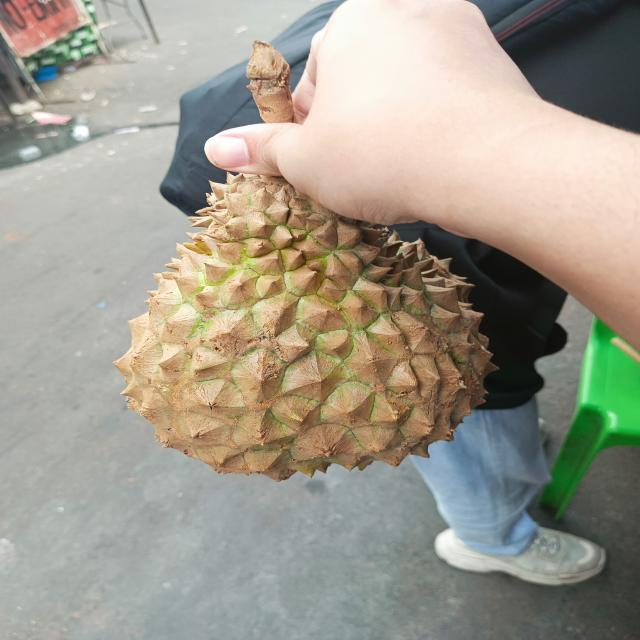mature: (114, 175, 494, 480)
